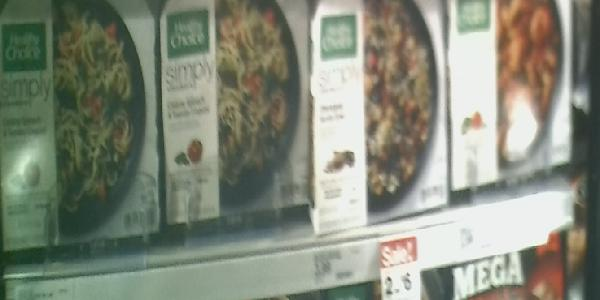pizza1: (2, 3, 160, 241), (162, 4, 310, 238), (314, 5, 451, 243), (451, 1, 577, 201)
